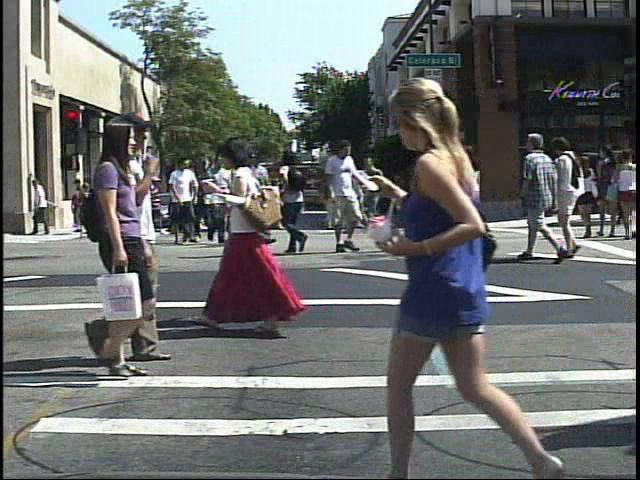person: (370, 67, 583, 480), (66, 108, 163, 379), (202, 135, 297, 337), (124, 109, 177, 372), (238, 132, 282, 334), (516, 129, 563, 265), (549, 132, 598, 261), (407, 134, 456, 262), (237, 137, 280, 261), (326, 140, 369, 255), (452, 144, 496, 256), (279, 150, 320, 258), (235, 150, 275, 248), (199, 153, 237, 250), (168, 156, 206, 243), (571, 147, 603, 242), (144, 173, 165, 242), (70, 182, 90, 232)
